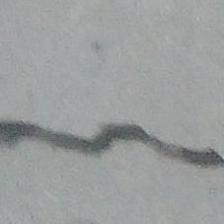Crack: (0, 105, 224, 190)
